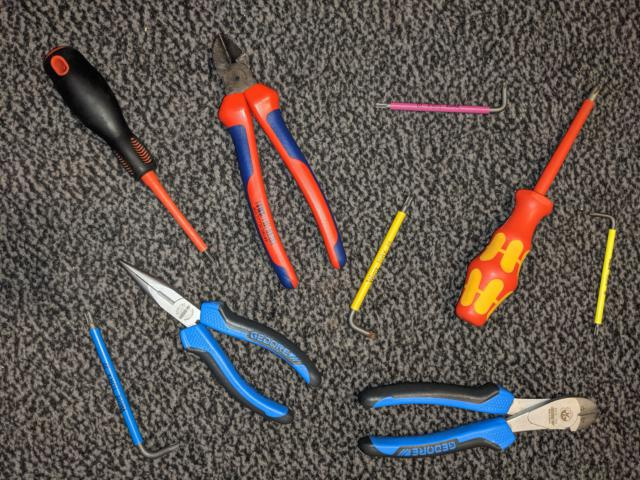Inbusschlüssel: (79, 303, 184, 464), (343, 192, 418, 342), (370, 77, 513, 117), (582, 208, 621, 340)
Schraubendreher: (40, 41, 225, 274), (452, 80, 605, 334)
Seitenschneider: (208, 30, 352, 294), (354, 377, 605, 466)
Zange: (112, 254, 328, 430)
